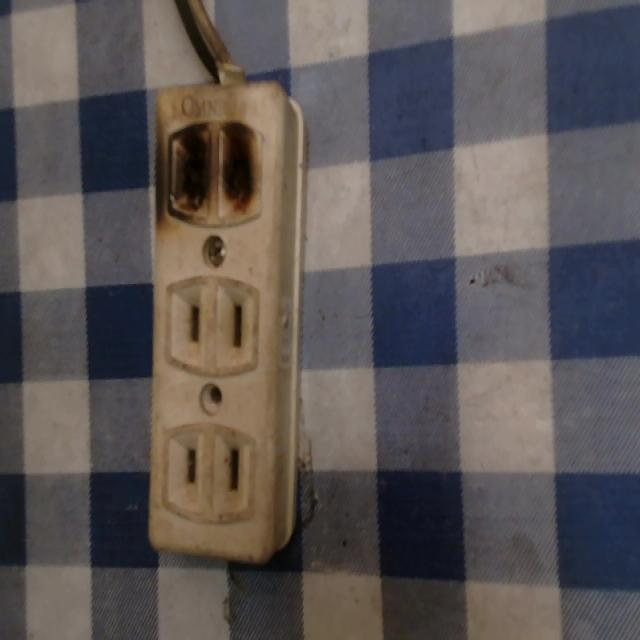-: (155, 113, 268, 224)
